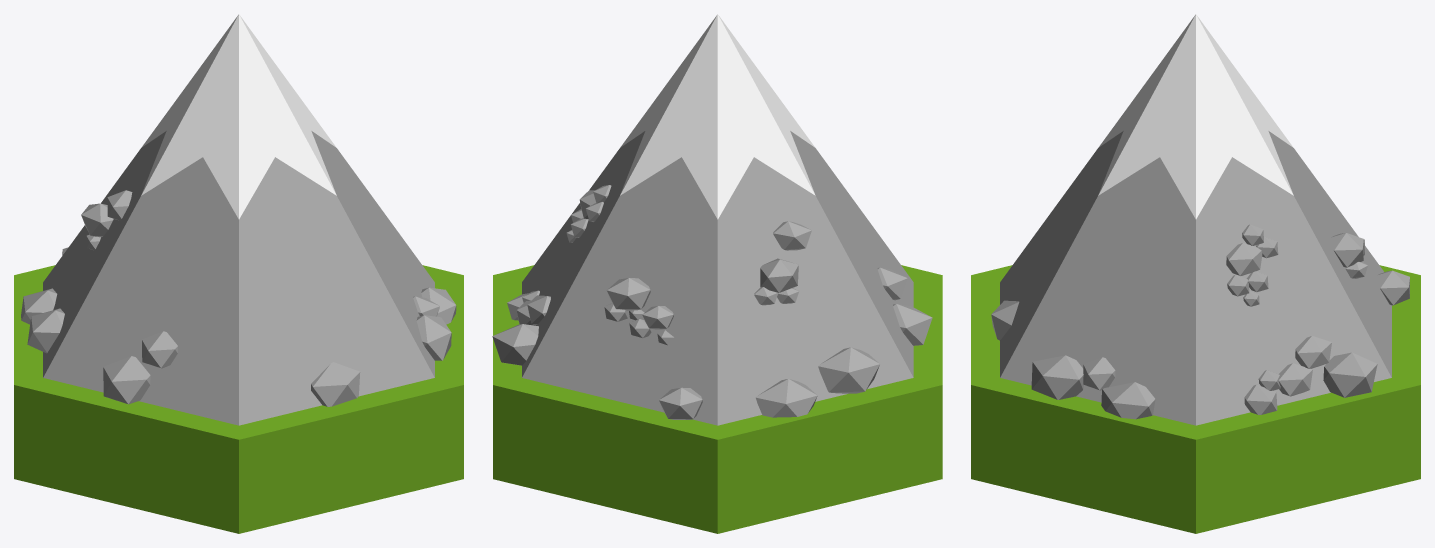
The model's file is Montaña.fbx.
3 views of the same model, side by side, from view 1: azimuth 30°, elevation 25°; view 2: azimuth 150°, elevation 25°; view 3: azimuth 270°, elevation 25° (orthographic).
Visible parts, largest first — view 1: Montaña; view 2: Montaña; view 3: Montaña.
Part boxes in pixels (x1,y1,x2,y2): Montaña: [14, 14, 463, 533]; Montaña: [492, 14, 942, 533]; Montaña: [971, 14, 1420, 533].
Size of the model in its own units: 200 by 174 by 173.
